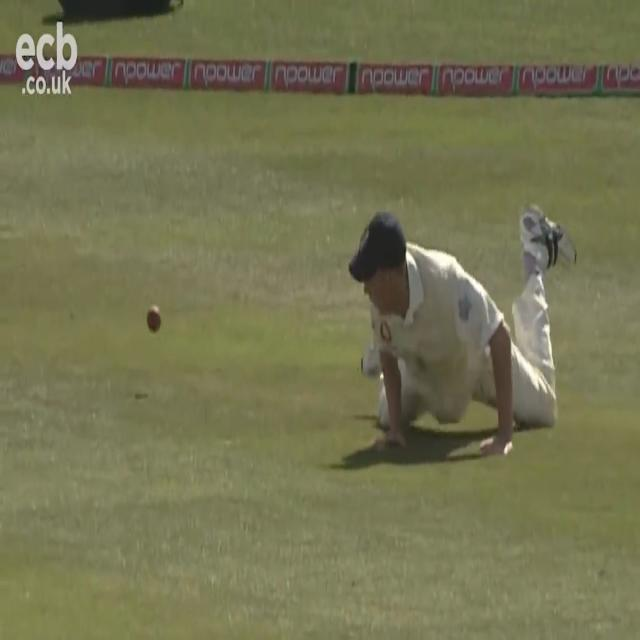ball: (145, 295, 164, 340)
